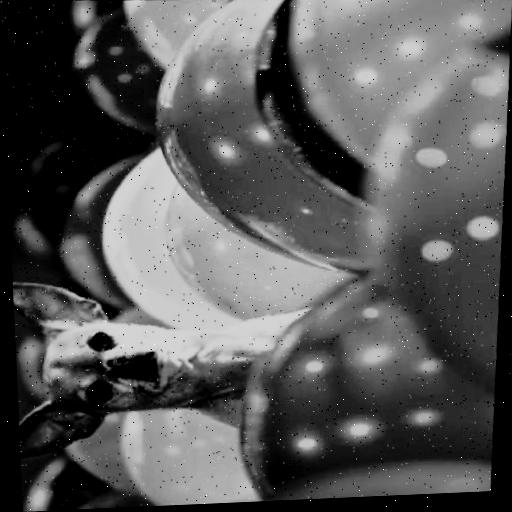balloon: (129, 0, 403, 293), (218, 251, 512, 503), (343, 14, 512, 410), (90, 117, 272, 341), (240, 0, 404, 209), (157, 161, 355, 326), (39, 131, 195, 319), (118, 387, 294, 508), (60, 0, 202, 141), (5, 115, 127, 273), (244, 448, 502, 502), (61, 393, 161, 489), (13, 293, 76, 416), (113, 0, 224, 69), (23, 448, 133, 512)
